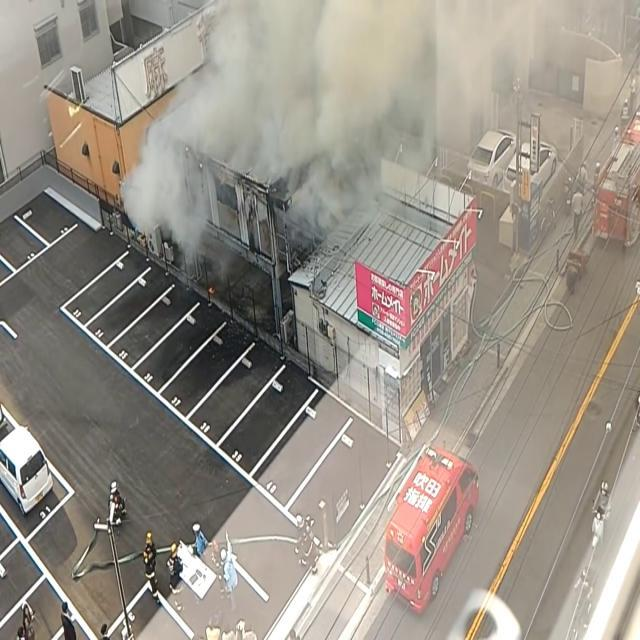Smoke: (126, 0, 452, 262)
